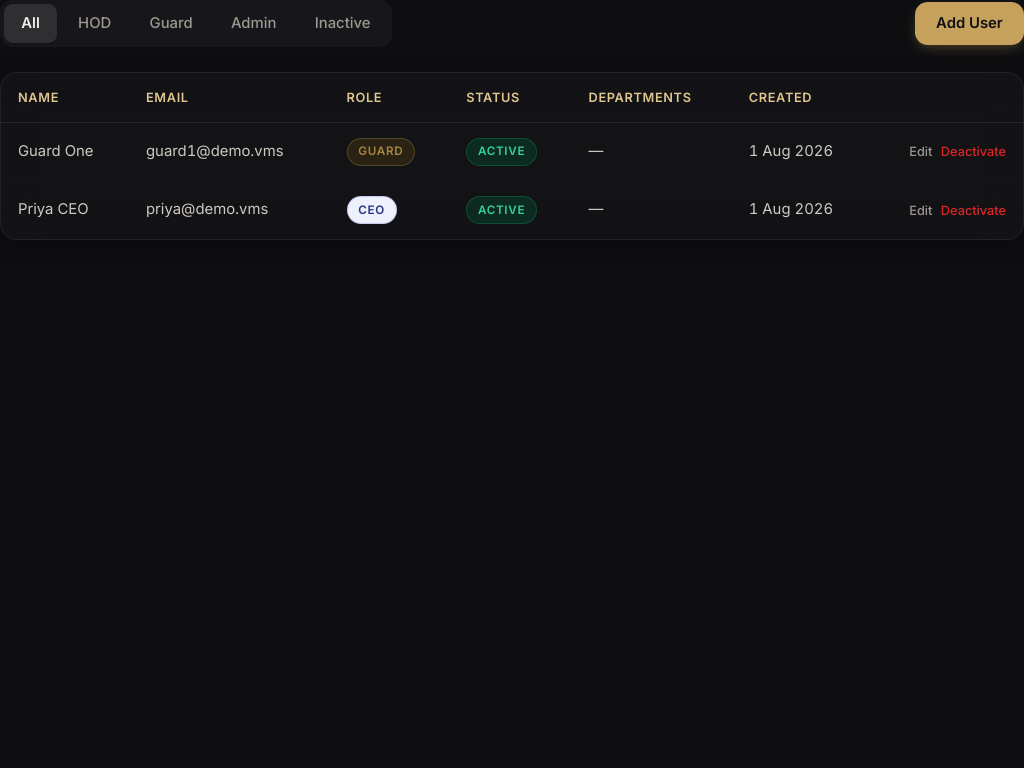
Add User — the four approval offices are offered › picking an office hides the Department control and warns the office will move
The width and height of the screenshot is (1024, 768).
Expected: the text "Guard One" is shown, [1,123,129,181]
Click the button "Add User".
click(969, 23)  # box [915,2,1023,45]
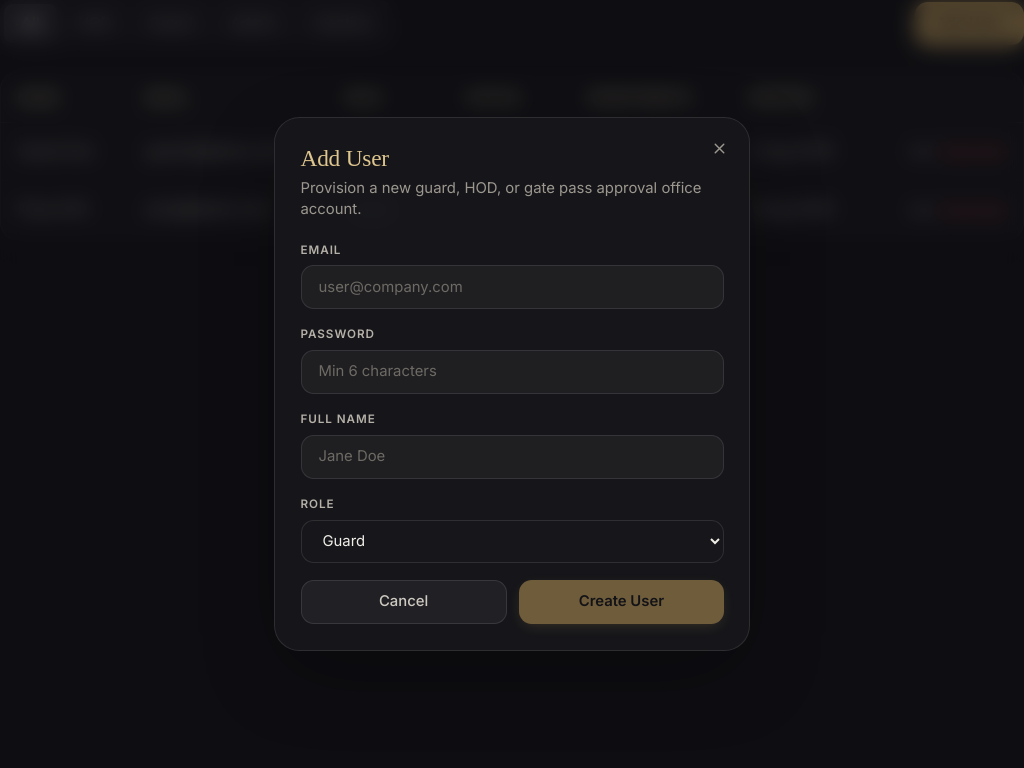
Select "CEO" in the dropdown labelled "Role" at (512, 541), box [300,520,724,563]
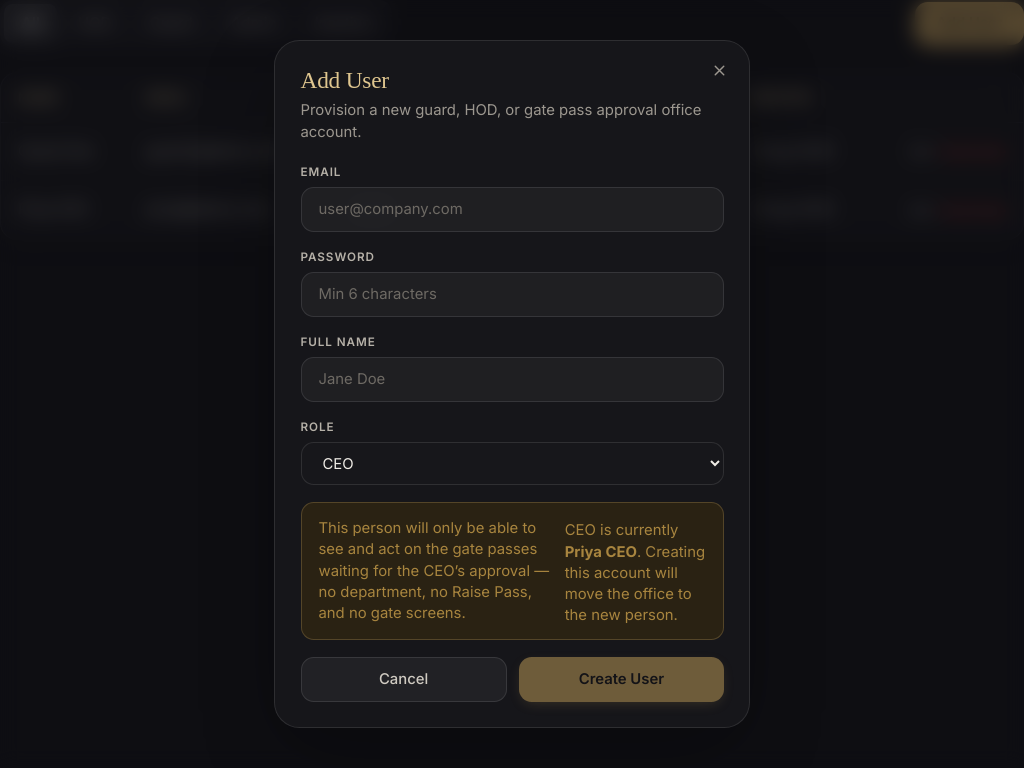
Expected: the text "move the office to the new person" is shown, [565,542,705,624]
Expected: the text "Priya CEO" is shown, [565,542,637,560]
